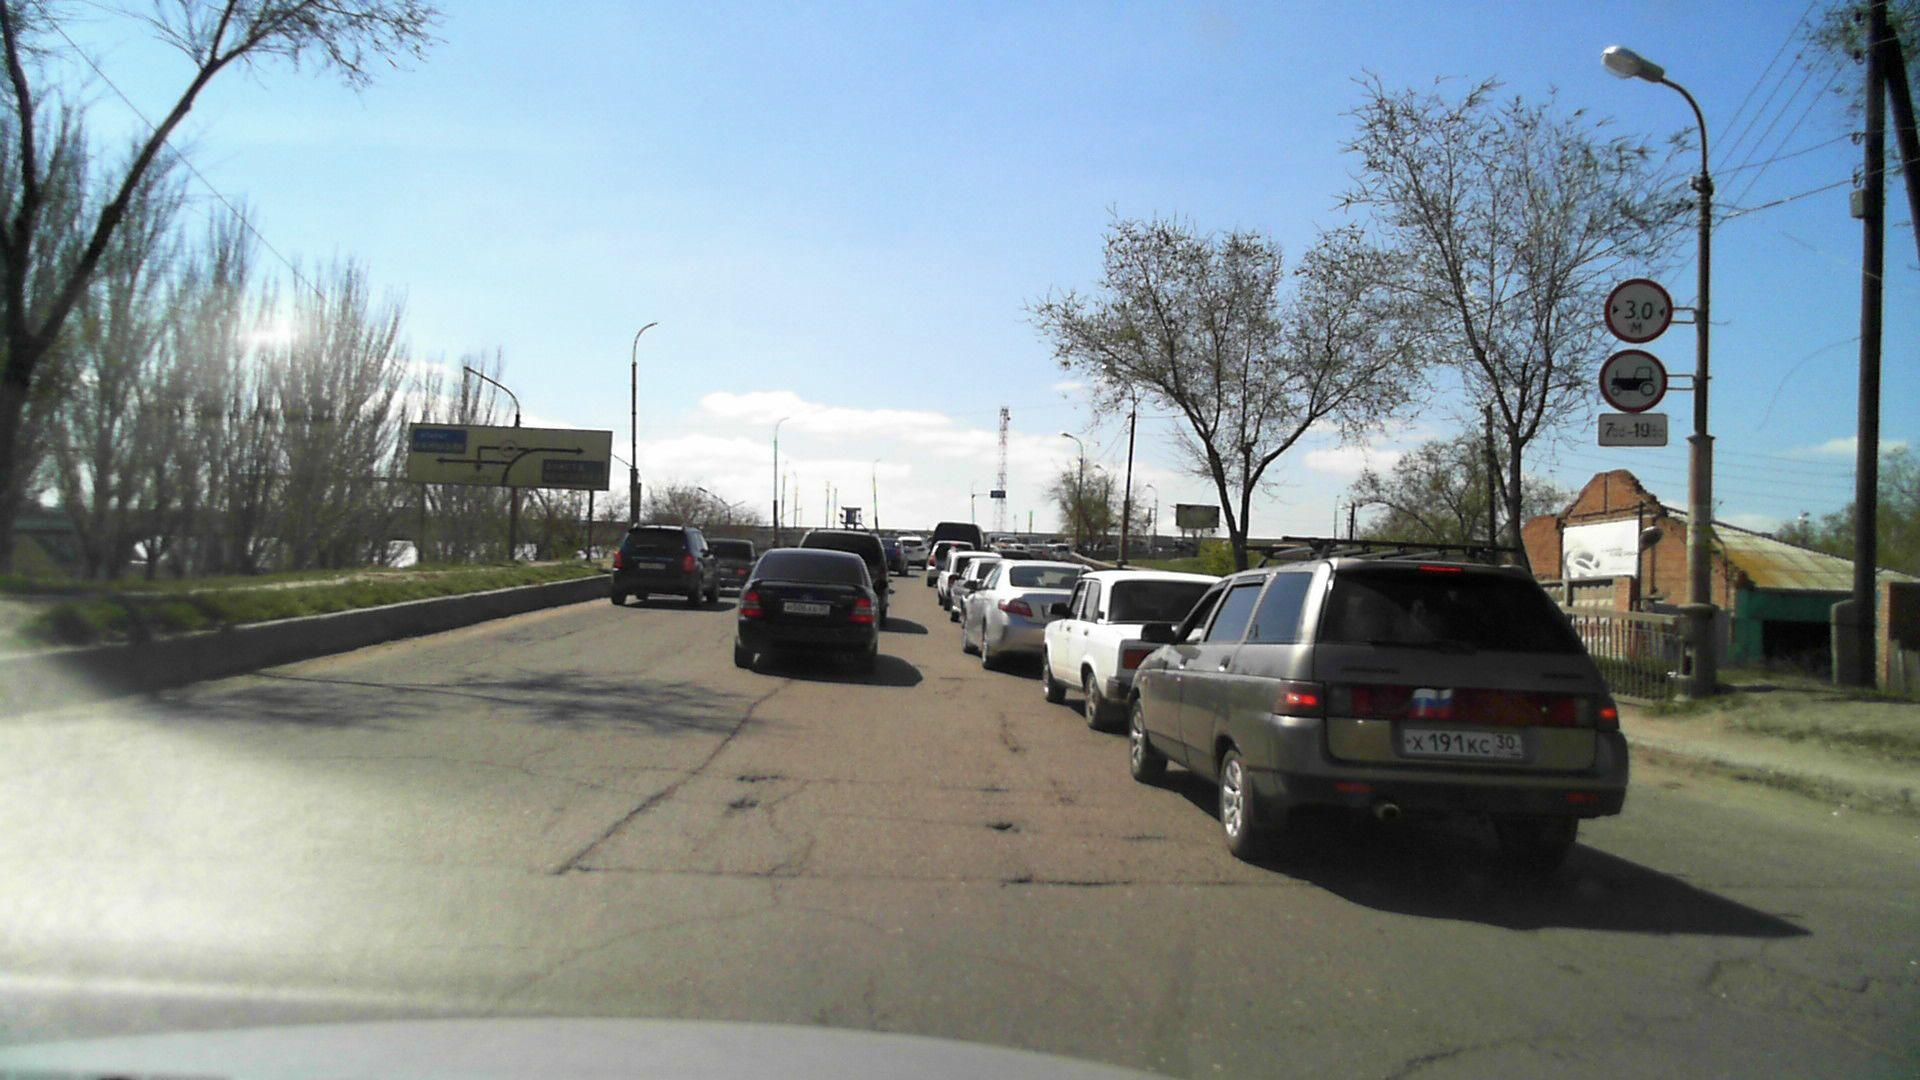3_14: (1604, 277, 1672, 343)
3_6: (1600, 348, 1668, 413)
6_9_1: (404, 419, 616, 497)
8_5_4: (1597, 414, 1668, 447)
